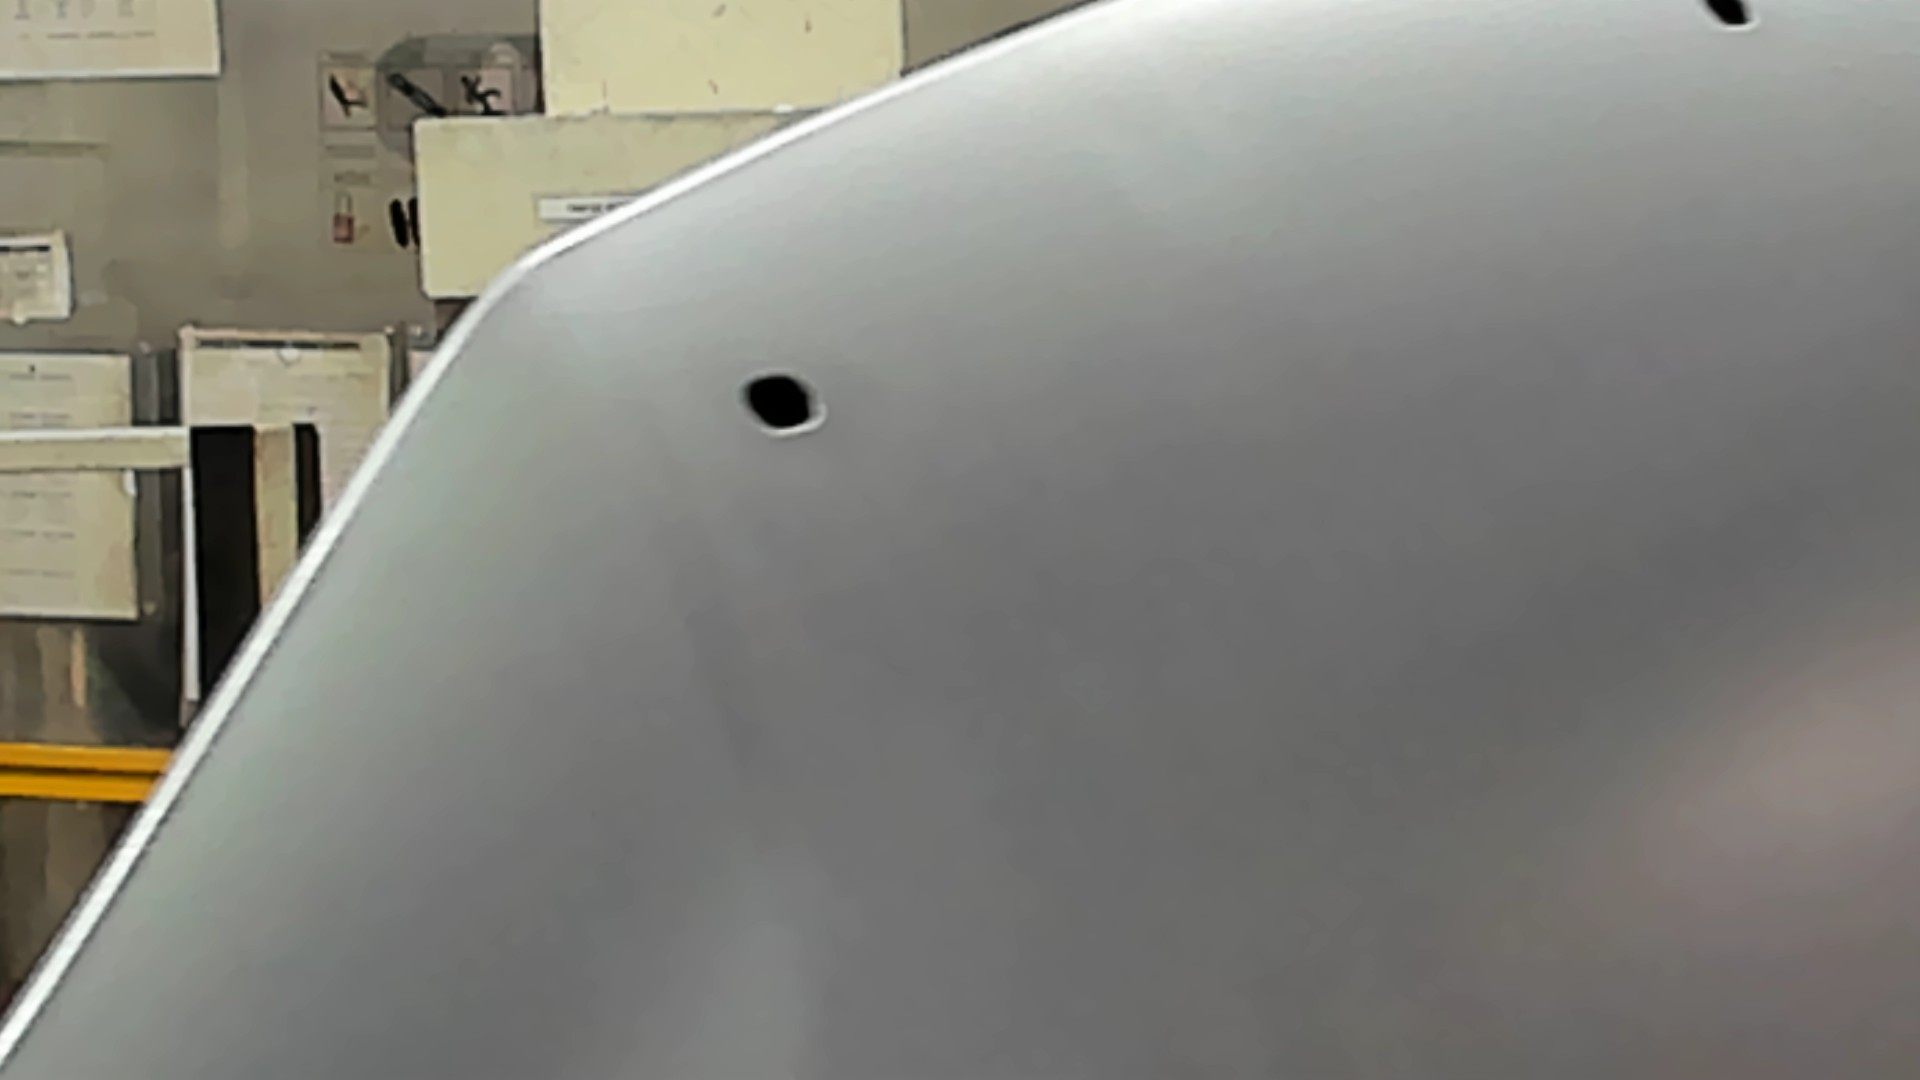amorfo: (725, 367, 837, 440), (1693, 1, 1763, 37)
capo: (923, 92, 1920, 1080)
